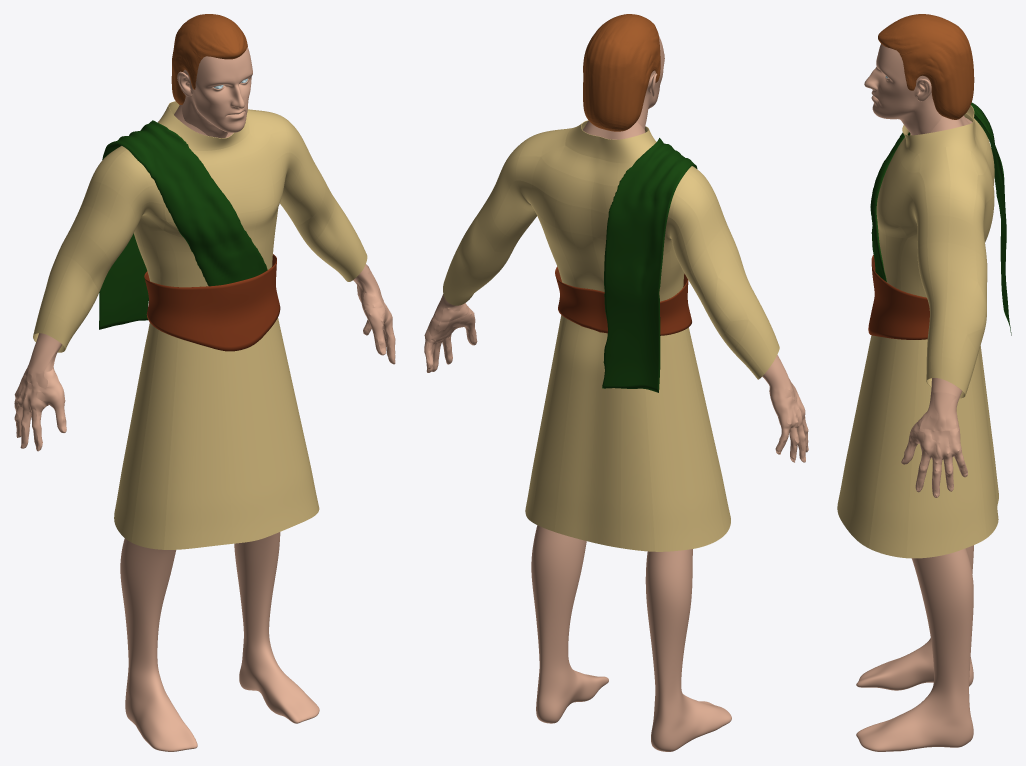
Rendered from male_npc.fbx.
3 views of the same model, side by side, from view 1: azimuth 30°, elevation 25°; view 2: azimuth 150°, elevation 25°; view 3: azimuth 270°, elevation 25° (orthographic).
Visible parts, largest first — view 1: cloth, body, kusak, kemer, hair; view 2: cloth, body, kusak, hair, kemer; view 3: cloth, body, hair, kemer, kusak.
Part boxes in pixels (x1,y1,x2,y2): cloth: (33, 101, 367, 549); body: (14, 46, 395, 751); kusak: (99, 120, 267, 329); kemer: (144, 254, 280, 351); hair: (171, 14, 247, 104); cloth: (443, 120, 779, 551); body: (424, 36, 808, 751); kusak: (602, 138, 697, 392); hair: (583, 14, 660, 131); kemer: (555, 266, 691, 335); cloth: (837, 105, 998, 558); body: (856, 44, 973, 751); hair: (878, 14, 974, 119); kemer: (868, 255, 929, 339); kusak: (870, 102, 1011, 335).
Size of the model in its own units: 98.08 by 176 by 39.73.
